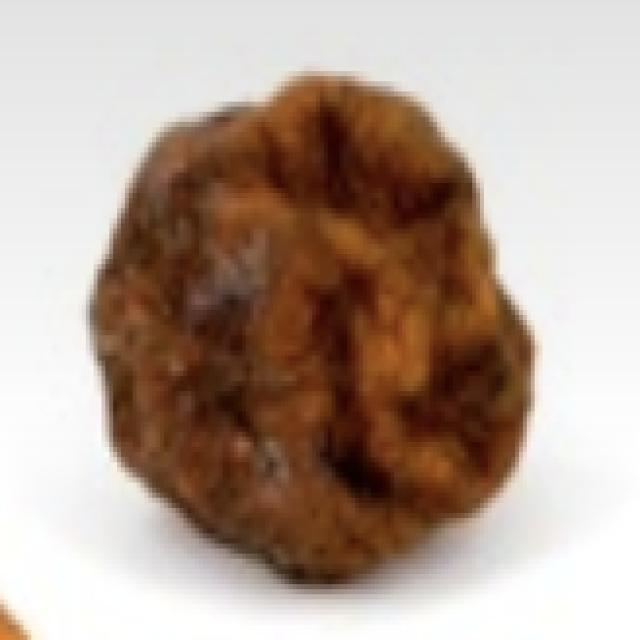sangat-busuk: (91, 74, 533, 581)
